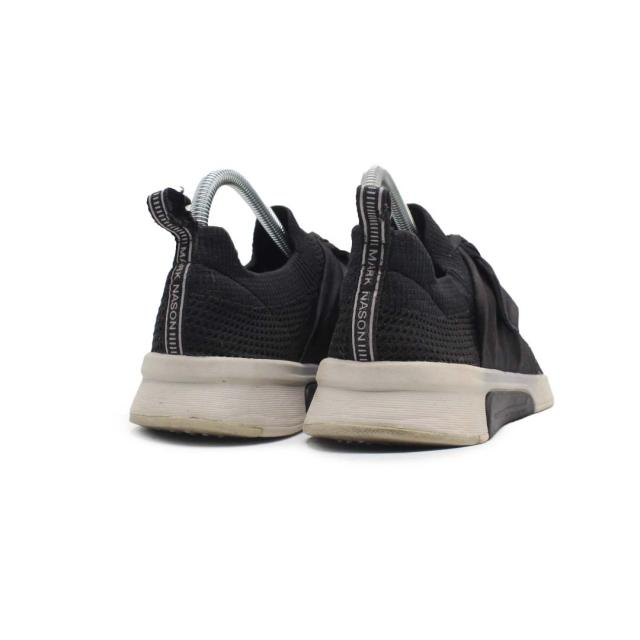heel: (320, 184, 461, 361), (144, 188, 286, 361)
midsole: (302, 359, 556, 445), (127, 347, 316, 440)
